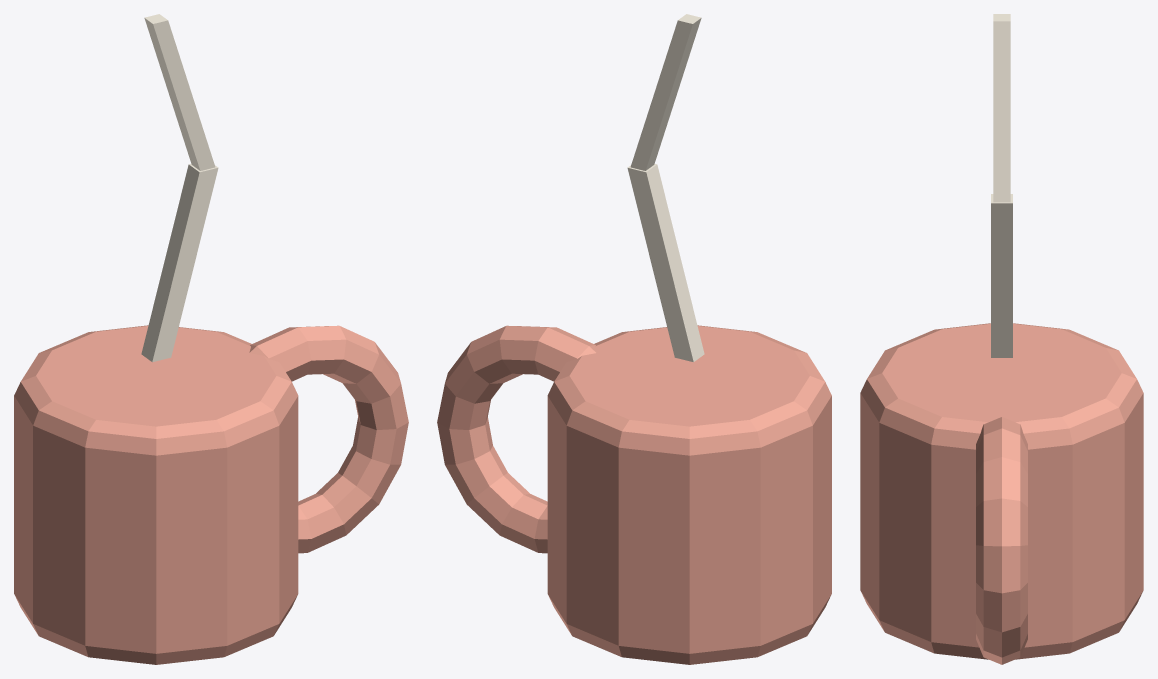
Rendered from cozy-home-interiors-steam-mug-2f8b26a0.glb.
The picture shows the model from 3 angles, left to right: view 1: azimuth 30°, elevation 25°; view 2: azimuth 150°, elevation 25°; view 3: azimuth 270°, elevation 25°; orthographic projection.
Visible parts, largest first — view 1: steam-mug; view 2: steam-mug; view 3: steam-mug.
Part boxes in pixels (x1,y1,x2,y2): steam-mug: [14, 14, 408, 664]; steam-mug: [437, 14, 831, 664]; steam-mug: [860, 14, 1143, 664].
Size of the model in its own units: 0.197 by 0.3 by 0.13.
